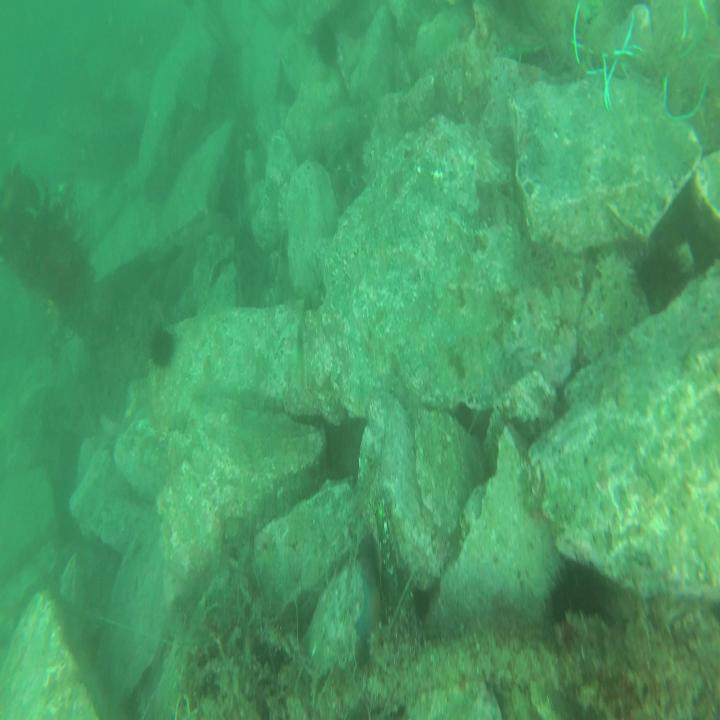echinus: (633, 239, 685, 316), (549, 557, 604, 618), (148, 328, 174, 372), (308, 24, 336, 63)
